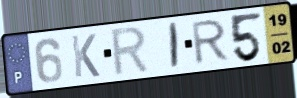5: (228, 10, 264, 63)
6: (32, 36, 64, 85)
I: (169, 21, 180, 72)
K: (69, 32, 102, 80)
R: (110, 24, 152, 79), (190, 17, 232, 67)
